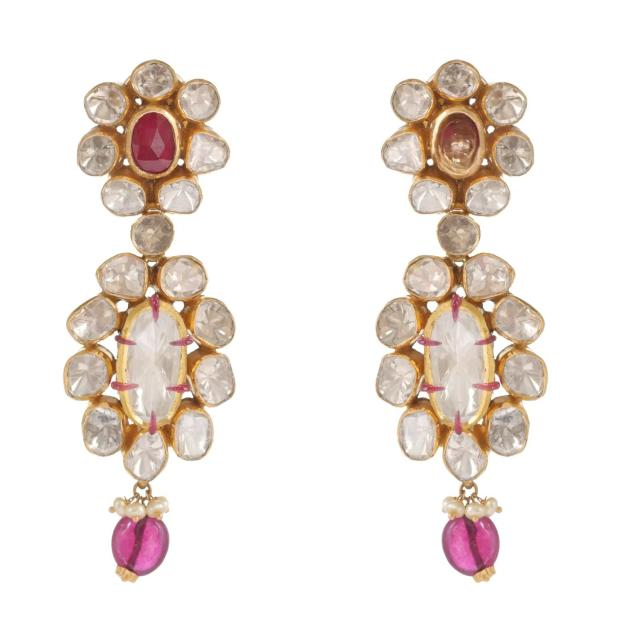missing gem: (437, 111, 481, 174)
